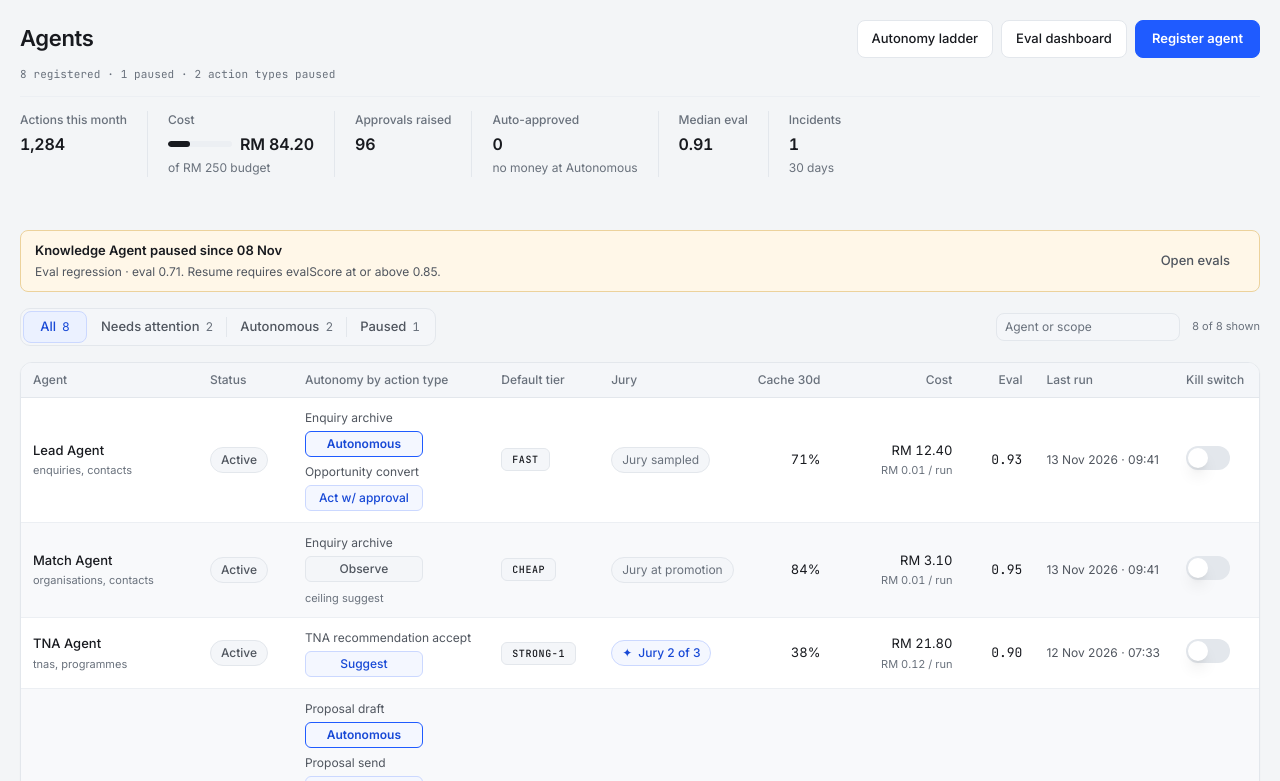
M18-S01 · agent registry › narrows on scope as well as name, and says so when nothing matches
Type "zzzz" into the search field named "Search agents" at (1088, 326), box [996,312,1180,340]
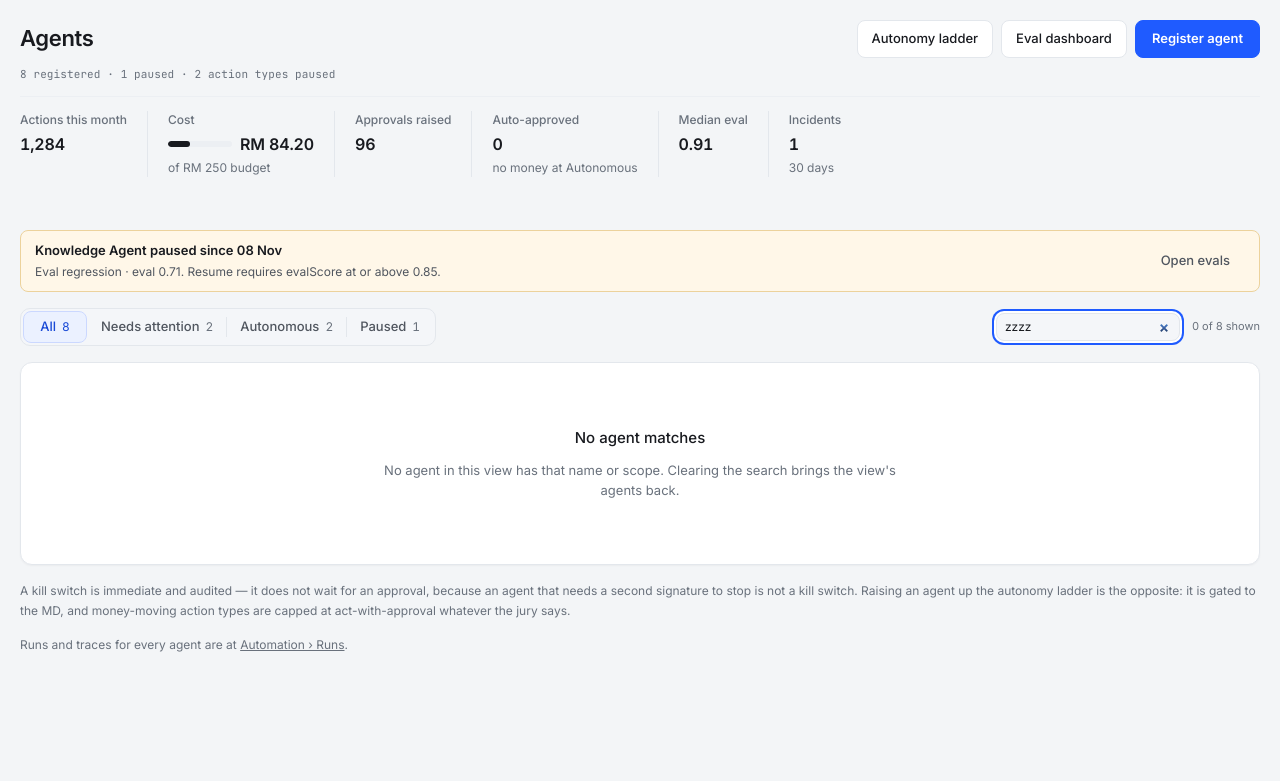
expect the text "No agent matches" is shown: met, box [575,426,705,449]
